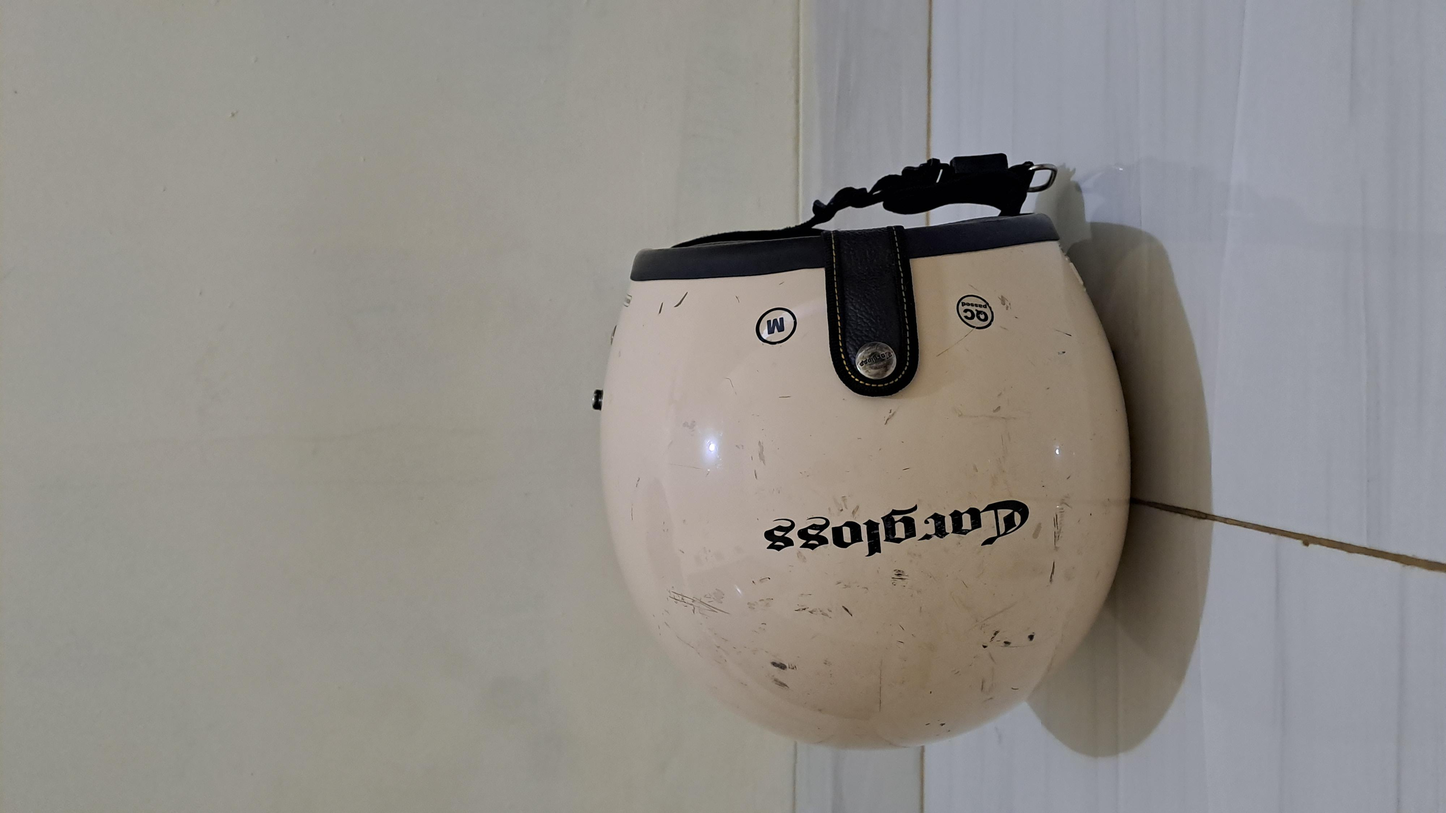helmet: (105, 317, 1222, 644)
